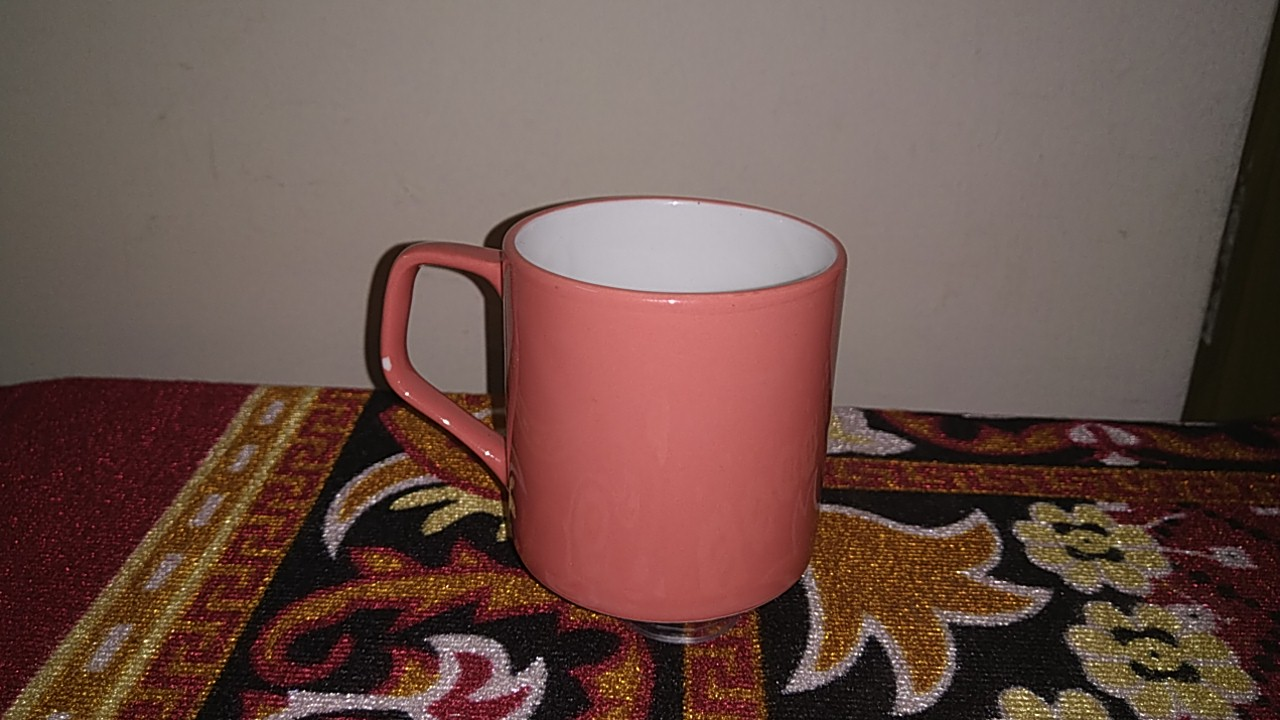cup: (359, 180, 863, 635)
